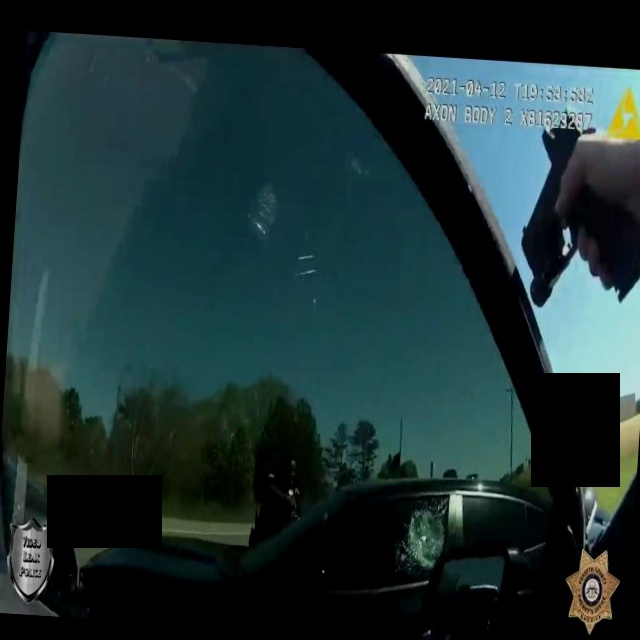gun: (285, 490, 308, 517)
